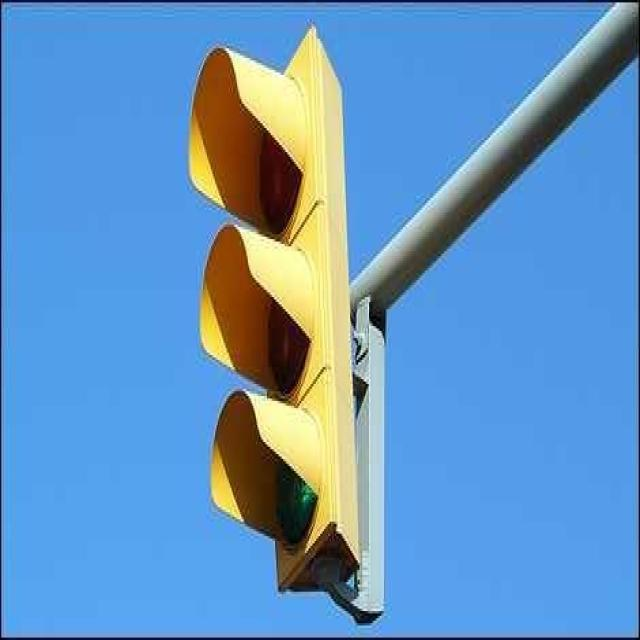Traffic Light -Green-: (166, 58, 343, 618)
